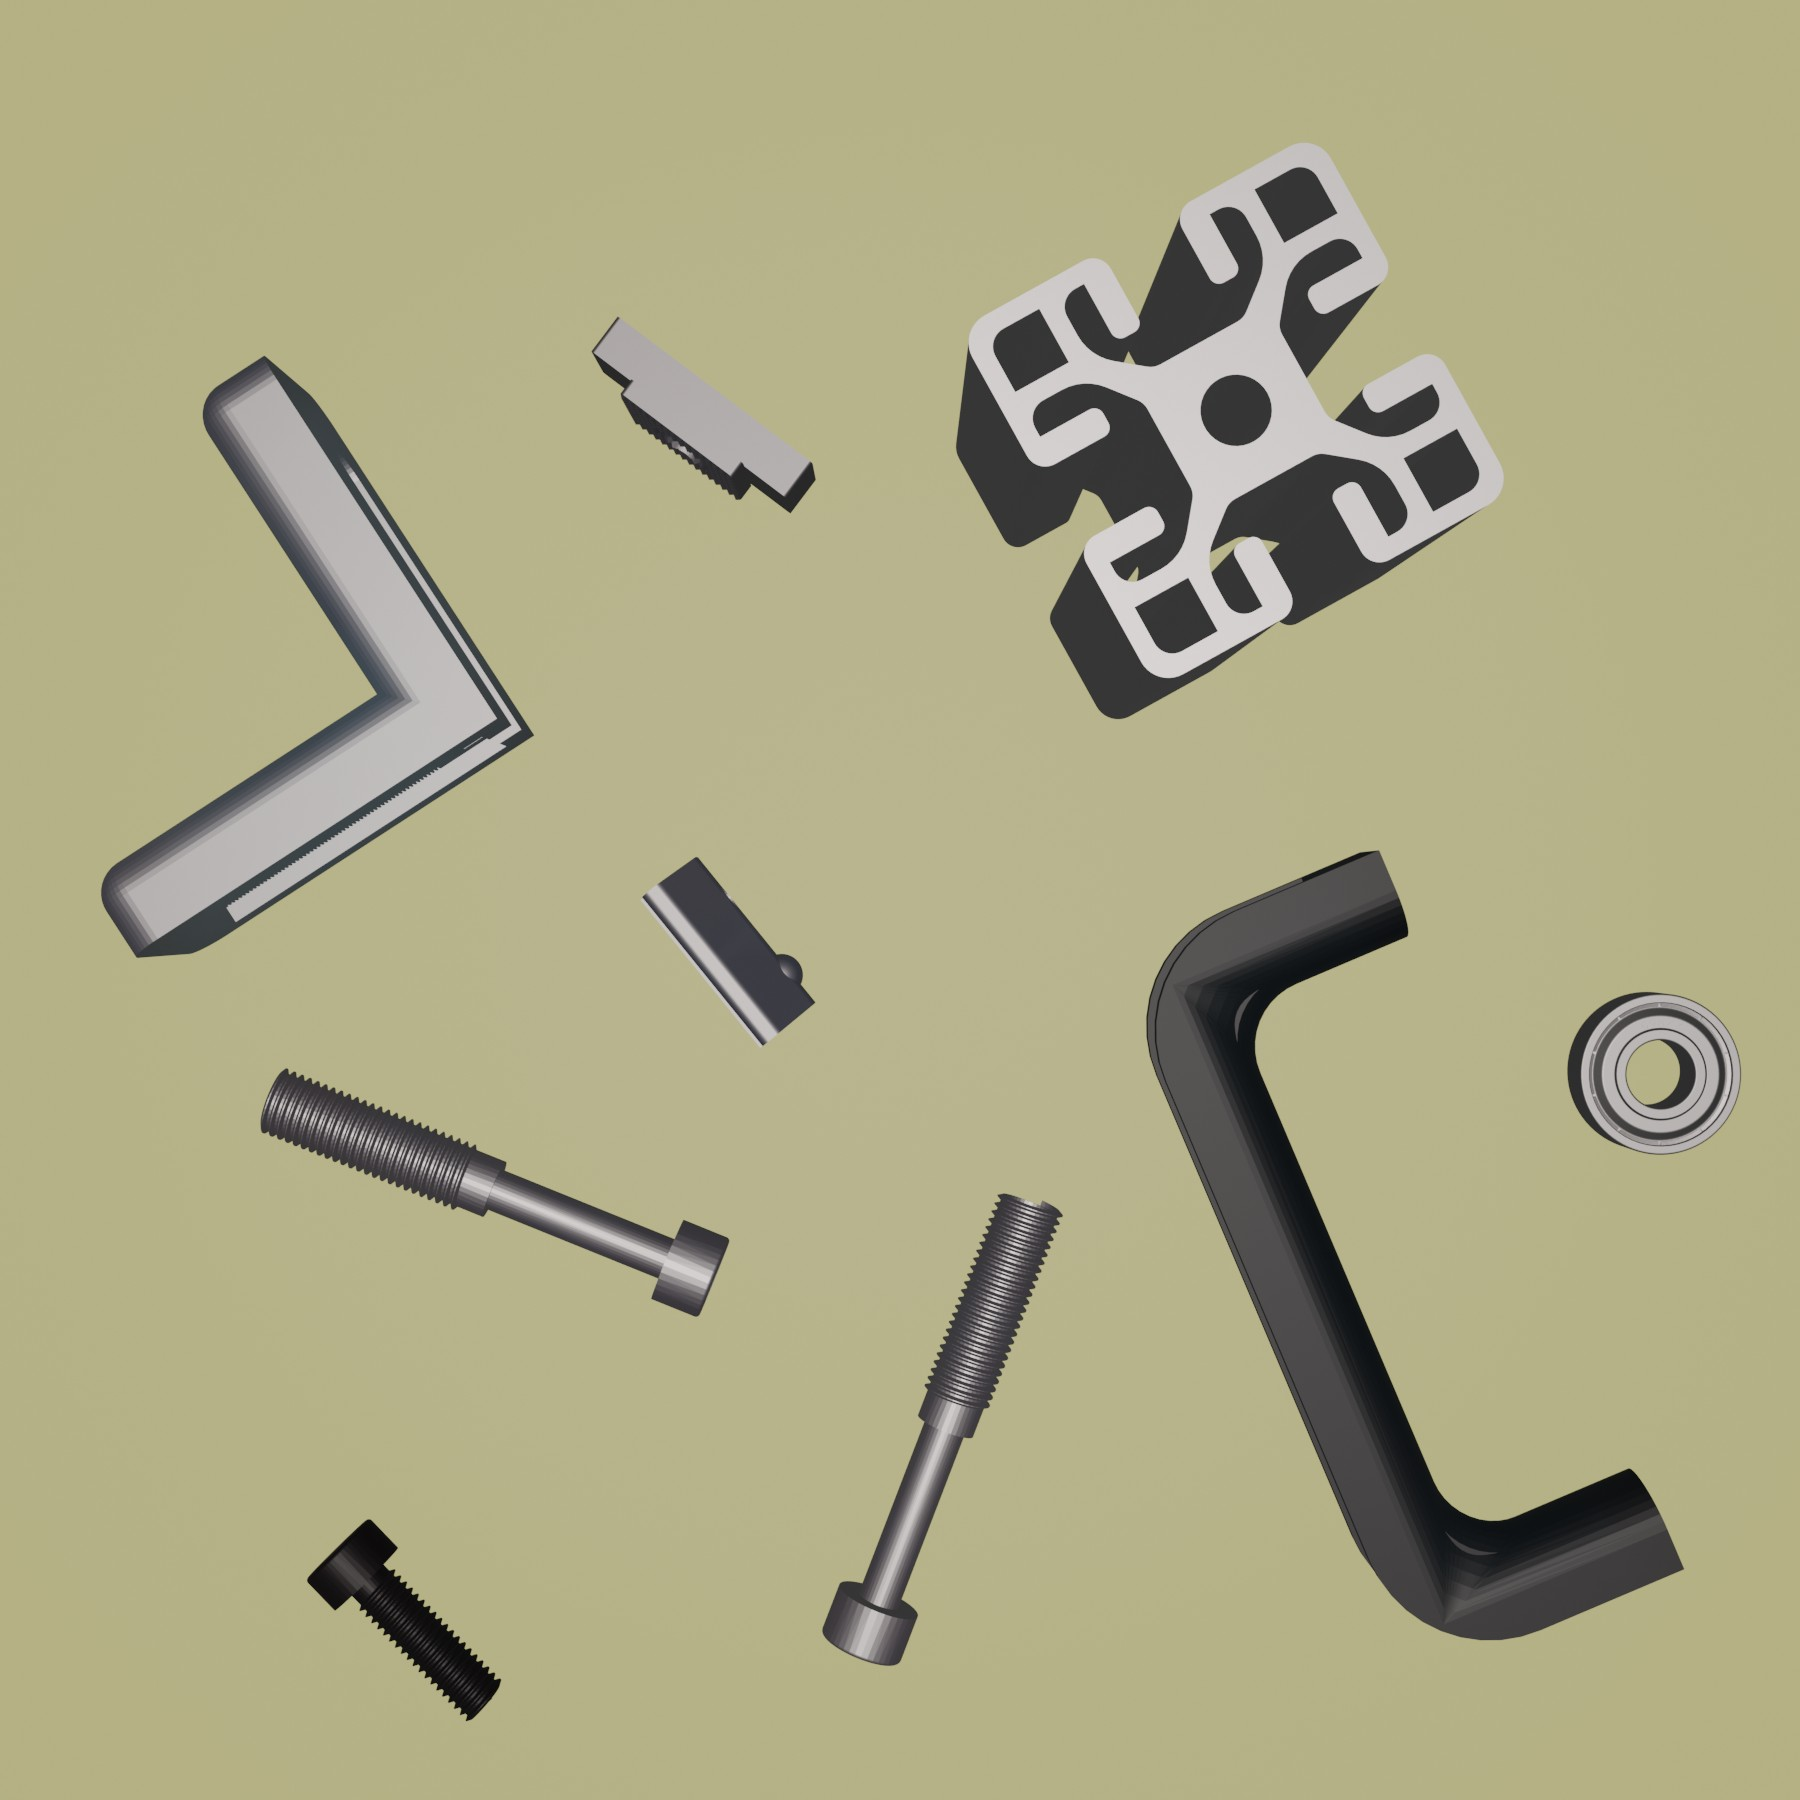Aluminium Extension: (951, 138, 1507, 722)
Ball Bearing: (1566, 987, 1744, 1162)
Multiwinkel: (97, 351, 536, 961)
Pull Handle: (1142, 846, 1685, 1642)
Shoulder Socket Head Cap Screw: (255, 1068, 730, 1320), (819, 1188, 1065, 1668)
Socket Head Cap Screw: (307, 1516, 504, 1727)
T Nut Square: (587, 315, 819, 519)
T Spring Nut: (638, 852, 818, 1050)
